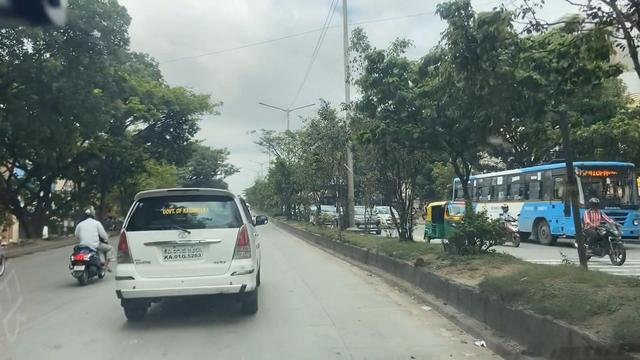LMV: (109, 183, 278, 323)
